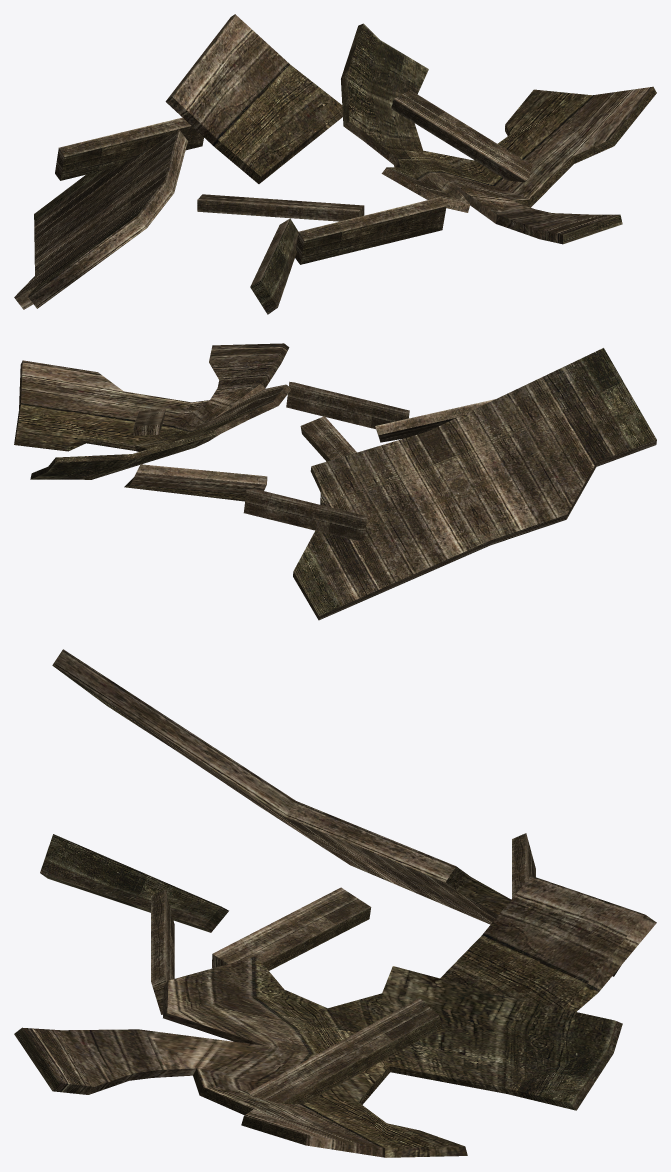
Rendered from ships_broken_piece01.fbx.
3 views of the same model, one above another, from view 1: azimuth 30°, elevation 25°; view 2: azimuth 150°, elevation 25°; view 3: azimuth 270°, elevation 25° (orthographic). The views are drawn at different scales.
Visible parts, largest first — view 1: ships_broken_piece01; view 2: ships_broken_piece01; view 3: ships_broken_piece01.
Boxes of the visible parts, x1,y1,x2,y2 form: ships_broken_piece01: [14, 14, 656, 314]; ships_broken_piece01: [14, 343, 656, 620]; ships_broken_piece01: [14, 649, 656, 1157].
Size of the model in its own units: 14.77 by 4.06 by 9.43.
